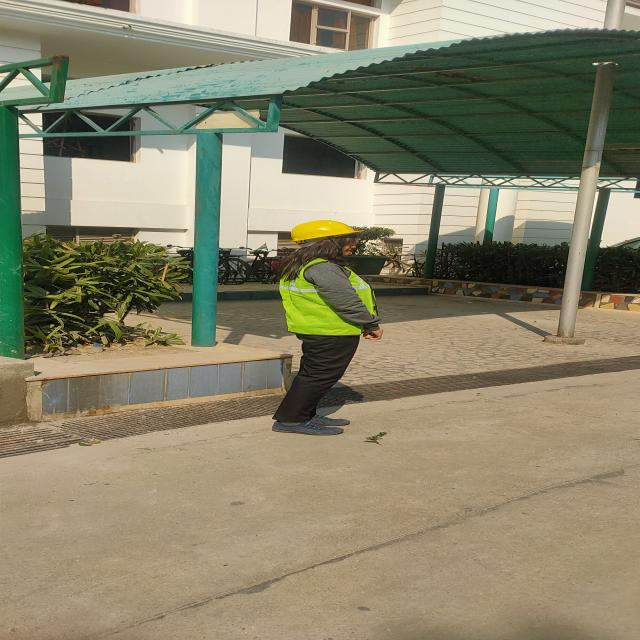safe: (273, 220, 383, 435)
